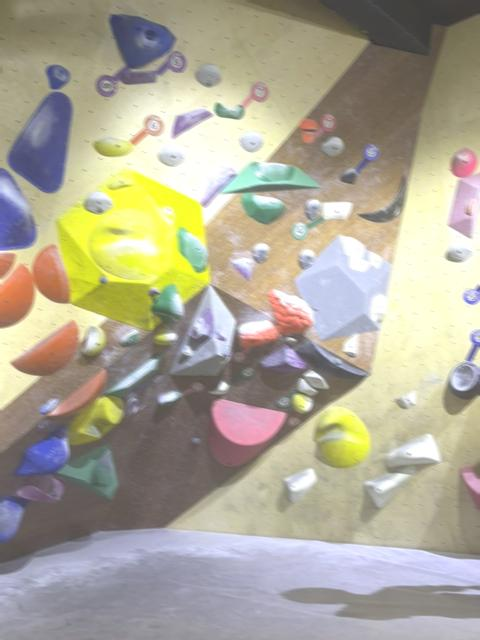crimp: (340, 234, 364, 258), (321, 201, 352, 219), (214, 102, 244, 119), (231, 257, 252, 279), (394, 390, 416, 408), (348, 256, 371, 271), (108, 178, 134, 189), (40, 398, 59, 413), (368, 251, 382, 268), (303, 131, 316, 142), (163, 206, 174, 216), (216, 329, 226, 339)
downhold: (195, 62, 222, 87), (84, 191, 113, 213), (158, 143, 185, 166), (444, 241, 472, 261), (240, 131, 263, 151), (321, 136, 344, 156), (304, 199, 321, 219), (252, 242, 269, 262), (299, 249, 315, 268)
jib: (148, 288, 160, 296), (193, 438, 199, 442)
jug: (93, 136, 132, 156), (120, 69, 157, 84), (154, 325, 177, 344), (120, 329, 139, 346), (158, 391, 182, 404), (209, 380, 229, 394), (340, 168, 358, 183), (182, 344, 192, 357)
ledge: (90, 208, 170, 279), (10, 320, 79, 374), (315, 406, 370, 467), (296, 339, 369, 380), (47, 369, 107, 417), (68, 396, 124, 444), (358, 174, 406, 222), (364, 465, 417, 507), (106, 355, 161, 395), (0, 263, 34, 327), (384, 433, 440, 468), (13, 474, 64, 502), (177, 227, 208, 272), (201, 167, 236, 206), (241, 192, 284, 223), (171, 108, 212, 138), (151, 284, 183, 322), (448, 361, 480, 398), (251, 162, 293, 180), (303, 369, 327, 388), (298, 378, 317, 395)
pocket: (109, 14, 176, 68), (451, 148, 477, 176), (46, 64, 69, 88), (124, 391, 139, 414), (192, 317, 206, 339)
sidepull: (7, 91, 72, 192), (0, 168, 36, 249), (31, 243, 70, 302), (448, 172, 480, 237), (81, 325, 106, 355), (370, 294, 387, 321), (291, 392, 313, 412), (343, 334, 359, 356)
sloper: (268, 289, 313, 334), (284, 467, 317, 502), (238, 319, 279, 347)
tape: (130, 114, 164, 145), (96, 66, 129, 96), (291, 215, 324, 239), (241, 81, 269, 107), (156, 51, 186, 75), (356, 143, 379, 172), (465, 329, 480, 361), (229, 367, 256, 384), (316, 114, 336, 136), (276, 389, 297, 407), (181, 381, 205, 395), (138, 375, 162, 388), (463, 288, 480, 304), (232, 347, 251, 361), (287, 412, 302, 426), (35, 419, 52, 429)
undercling: (13, 424, 69, 474), (0, 494, 29, 541), (299, 118, 319, 130)
volume: (57, 169, 209, 329), (295, 235, 391, 338), (171, 284, 235, 375), (208, 398, 286, 466), (56, 444, 118, 499), (220, 161, 321, 192)
